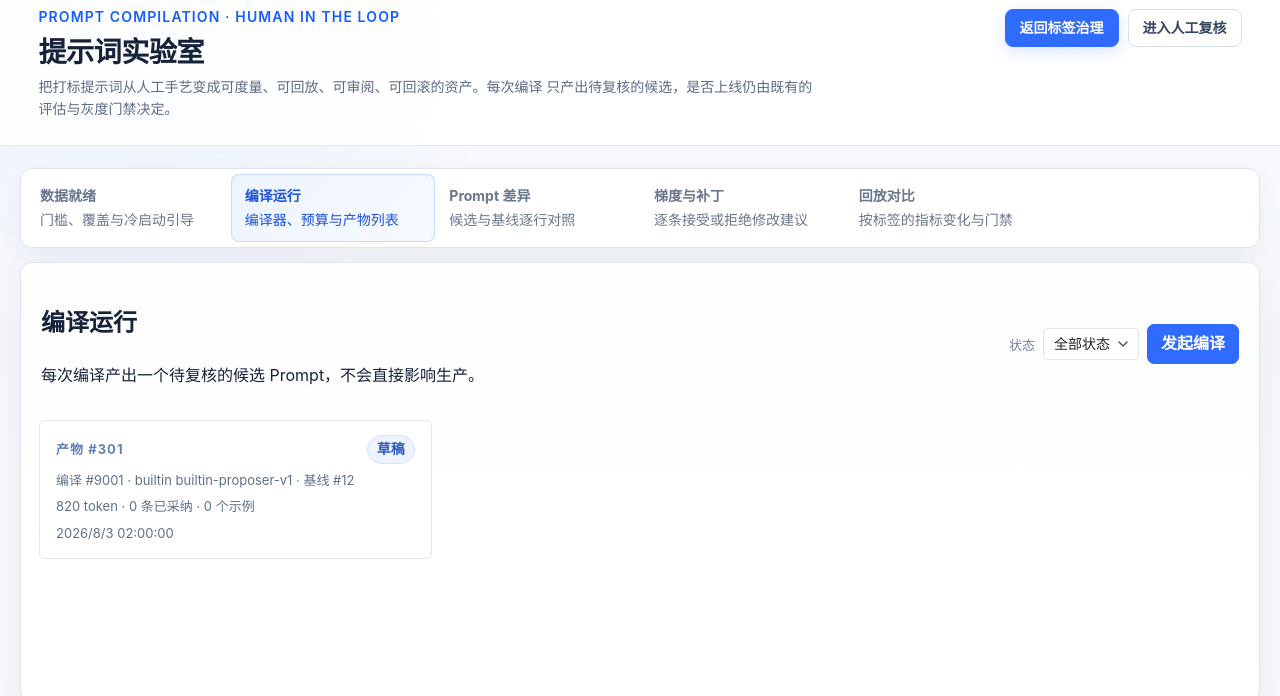
Test: PromptLabPage › writes the selection into the URL so the view can be shared
The image size is (1280, 696).
Click the button with aria-label "查看产物 301 的差异" at (235, 490), box [39,420,432,559]
(page scrolled)
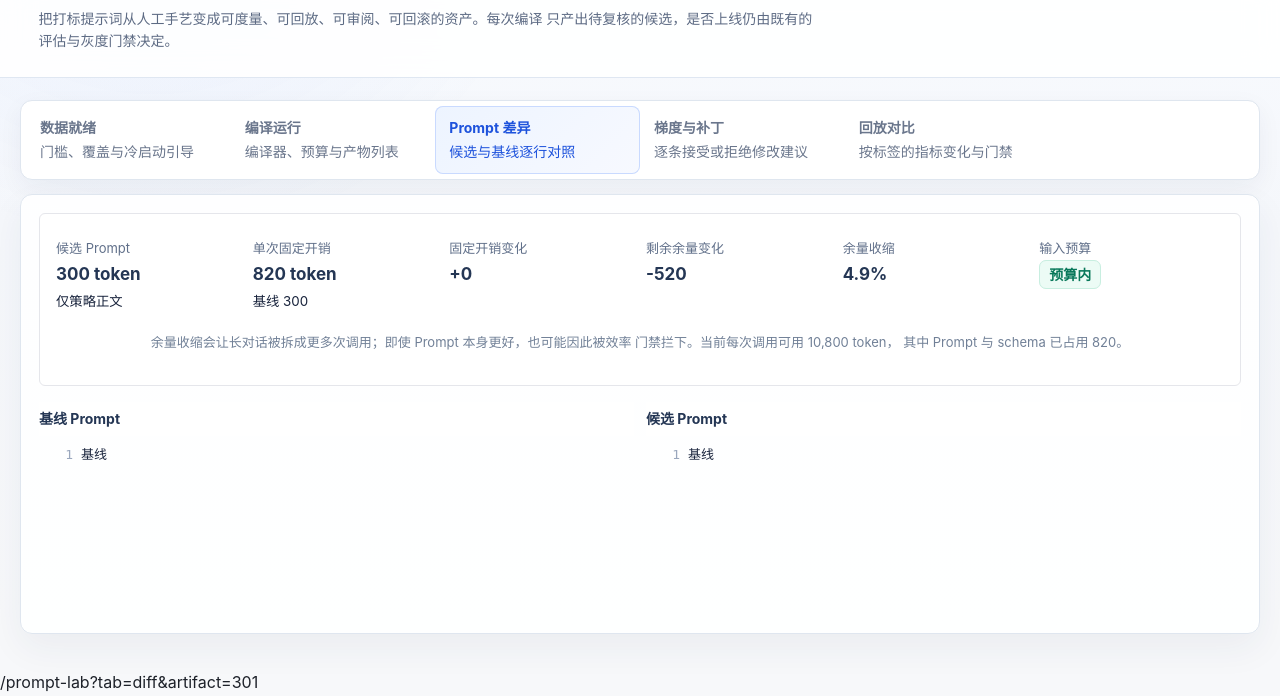
Result: the text named "当前查询" reads "/prompt-lab?tab=diff&artifact=301" at [0,672,258,692]
